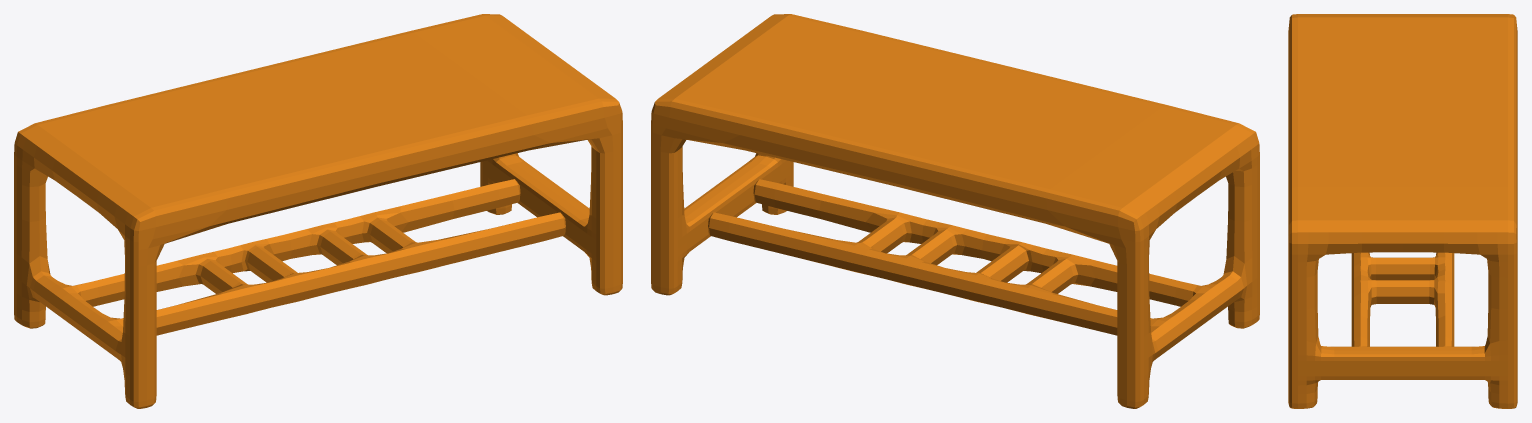
Rendered from Meja Tamu.fbx.
3 views of the same model, side by side, from view 1: azimuth 30°, elevation 25°; view 2: azimuth 150°, elevation 25°; view 3: azimuth 270°, elevation 25° (orthographic). The views are drawn at different scales.
Parts seen in each view (by area): view 1: Cube.002; view 2: Cube.002; view 3: Cube.002.
Boxes of the visible parts, left/top/right/bottom form: Cube.002: left=14, top=14, right=622, bottom=408; Cube.002: left=651, top=14, right=1259, bottom=408; Cube.002: left=1288, top=14, right=1517, bottom=408.
Size of the model in its own units: 160 by 61.16 by 69.86.
